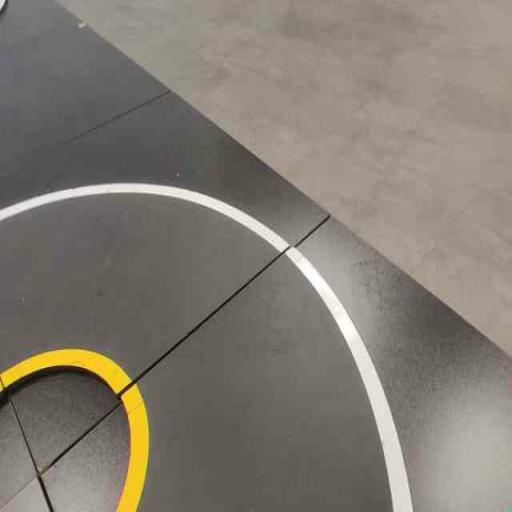left: (43, 213, 435, 511)
